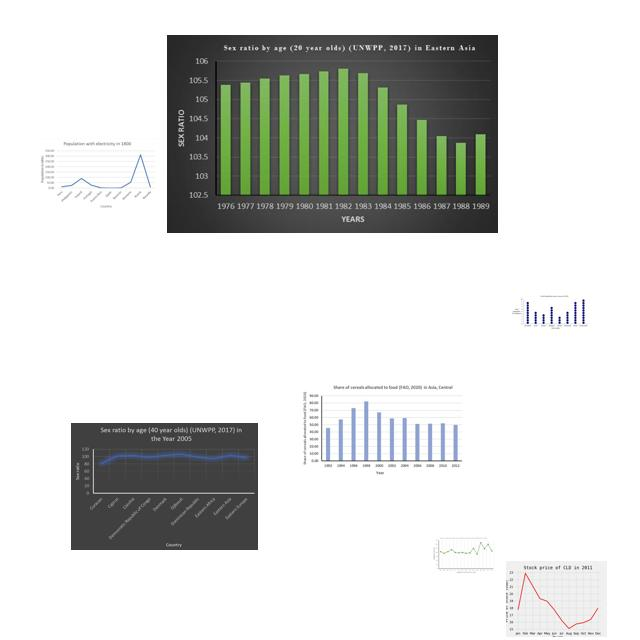Graph: (167, 35, 498, 233), (71, 423, 258, 550), (301, 382, 465, 477), (36, 138, 159, 212), (506, 561, 607, 637), (512, 295, 588, 330), (432, 536, 495, 575)
